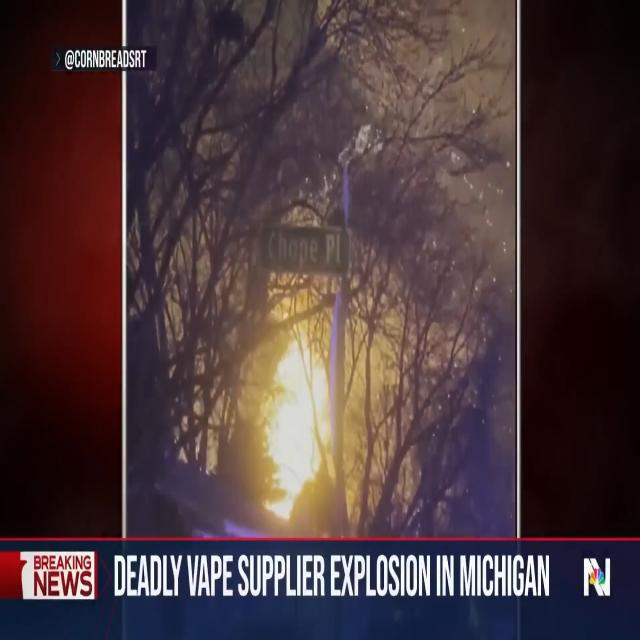fire: (245, 316, 340, 528)
